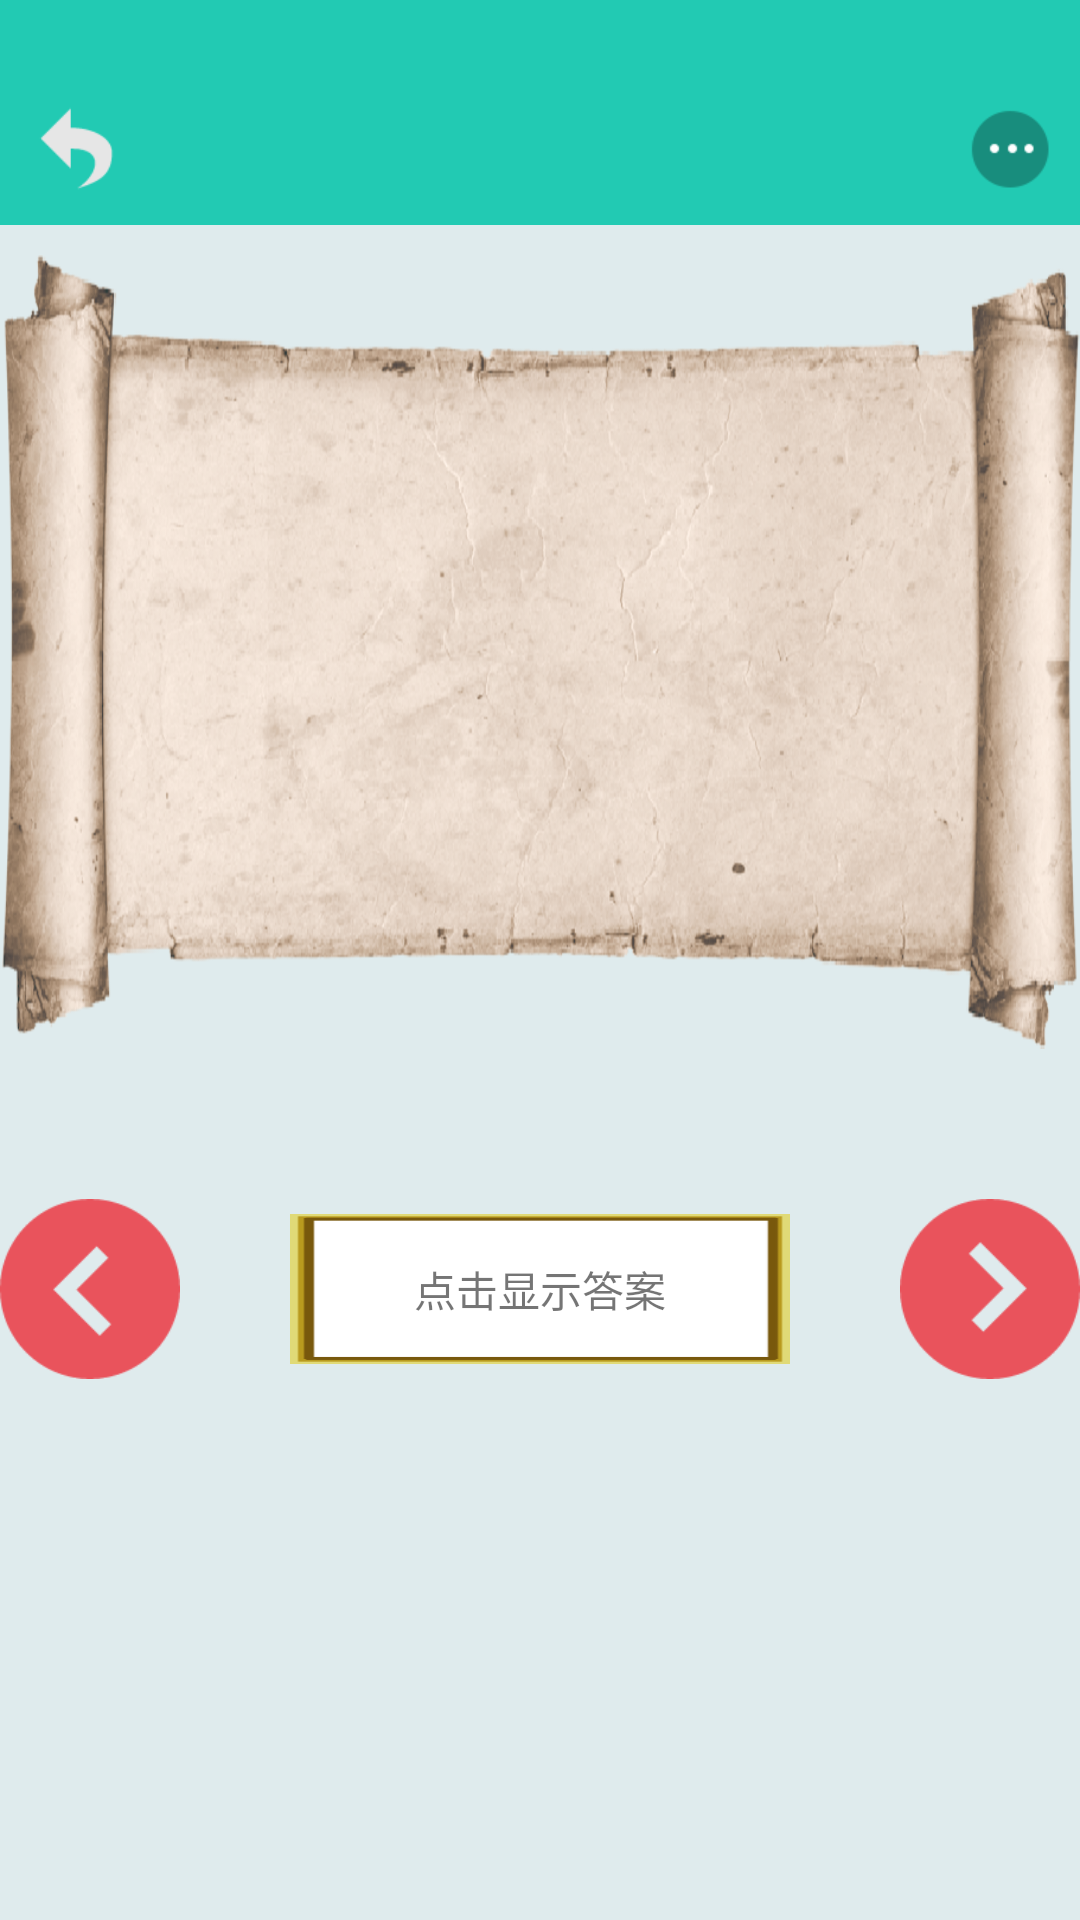

Icons on this 1080px×1920px Android screen, each with the point to tap as (x,y):
more: (1010,149)
